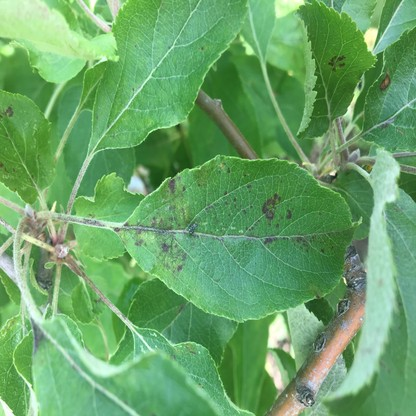rust: (380, 76, 390, 91)
scab: (115, 173, 198, 274), (328, 55, 345, 70), (1, 102, 13, 120)
